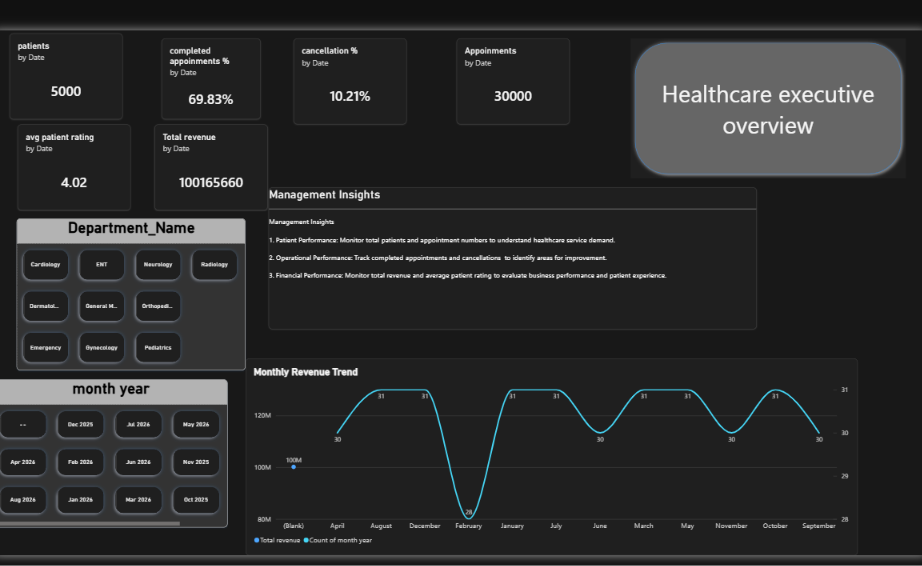

Layout of this report page (visuals, bound fields, positions):
{"tool":"powerbi","page":{"name":"healthcare executive overview","canvas":[1920,1080],"ordinal":0},"visuals":[{"type":"kpi","fields":{"Indicator":["Appointments.patients"],"TrendLine":["Date.Date"]},"box":[32.9,6.2,232.6,177],"z":0},{"type":"kpi","fields":{"Indicator":["Appointments.Appoinments"],"TrendLine":["Date.Date"]},"box":[953,16.5,233,177],"z":1000},{"type":"kpi","fields":{"Indicator":["Appointments.completed appoinments %"],"TrendLine":["Date.Date"]},"box":[345.8,16.5,203.8,166.7],"z":2000},{"type":"kpi","fields":{"Indicator":["Appointments.cancellation %"],"TrendLine":["Date.Date"]},"box":[617.5,16.5,233,177],"z":3000},{"type":"kpi","fields":{"Indicator":["Appointments.Total revenue"],"TrendLine":["Date.Date"]},"box":[331.4,193.5,233,177],"z":4000},{"type":"kpi","fields":{"Indicator":["Appointments.avg patient rating"],"TrendLine":["Date.Date"]},"box":[49.4,193.5,233,177],"z":5000},{"type":"advancedSlicerVisual","fields":{"Values":["Date.month year"]},"box":[0,718.4,481.6,304.6],"z":6000},{"type":"advancedSlicerVisual","fields":{"Values":["Departments.Department_Name"]},"box":[47.3,387,471.4,312.9],"z":7000},{"type":"textbox","title":"Management Insights","box":[566,323.2,1004.5,292.3],"z":8000},{"type":"lineChart","title":"Monthly Revenue Trend","fields":{"Category":["Date.Month_Name"],"Y":["Appointments.Total revenue"],"Y2":["CountNonNull(Date.month year)"]},"box":[518.7,675.1,1259.7,405.5],"z":9000},{"type":"shape","box":[1311.2,16.5,566,288.2],"z":11000}]}

Visuals, with their boxes on the page's 1920x1080 design canvas (x1, y1, x2, y2). These are canvas units, not pixel positions in the 922x566 screenshot, which may show the page scaled, cropped or inside an application window:
kpi - Appointments.patients x Date.Date: 33:6:266:183
kpi - Appointments.Appoinments x Date.Date: 953:16:1186:194
kpi - Appointments.completed appoinments % x Date.Date: 346:16:550:183
kpi - Appointments.cancellation % x Date.Date: 618:16:850:194
kpi - Appointments.Total revenue x Date.Date: 331:194:564:370
kpi - Appointments.avg patient rating x Date.Date: 49:194:282:370
advancedSlicerVisual - Date.month year: 0:718:482:1023
advancedSlicerVisual - Departments.Department_Name: 47:387:519:700
"Management Insights" textbox: 566:323:1570:616
"Monthly Revenue Trend" lineChart: 519:675:1778:1081
shape: 1311:16:1877:305
